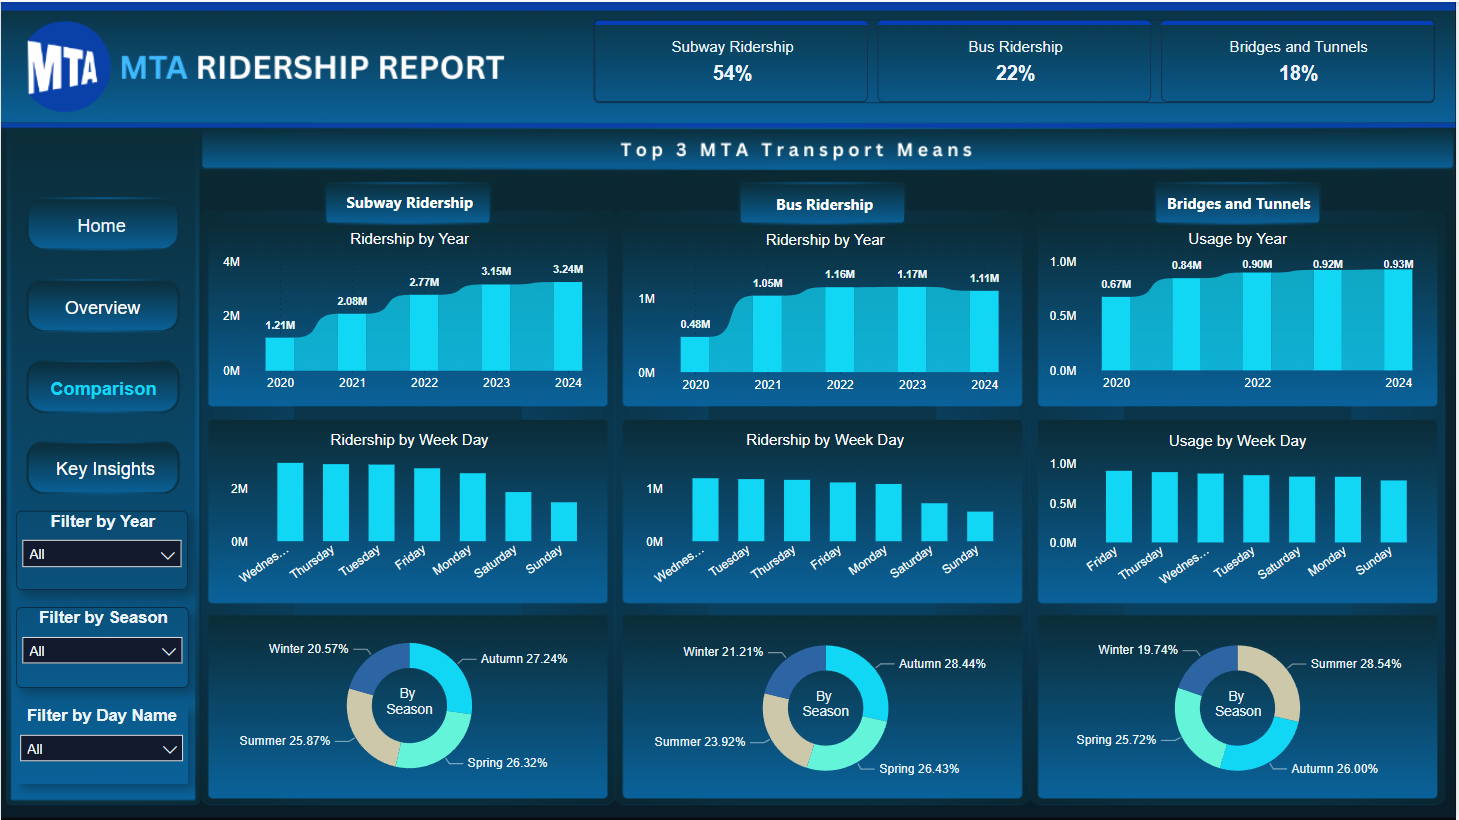

Layout of this report page (visuals, bound fields, positions):
{"tool":"powerbi","page":{"name":"Comparison","canvas":[1280,720],"ordinal":2},"visuals":[{"type":"clusteredColumnChart","title":"Ridership by Week Day","fields":{"Category":["Dates.Day Name"],"Y":["Avg(MTA_Daily_Ridership.Bus Ridership)"]},"box":[549.8,367.6,350.5,162.1],"z":0},{"type":"donutChart","title":"Ridership by Month","fields":{"Category":["Dates.Season"],"Y":["Avg(MTA_Daily_Ridership.Bus Ridership)"]},"box":[549.8,540.2,350.5,162.1],"z":1000},{"type":"ribbonChart","title":"Ridership by Year","fields":{"Category":["Dates.Year"],"Y":["Avg(MTA_Daily_Ridership.Bus Ridership)"]},"box":[549.8,191.8,350.5,165.3],"z":2000},{"type":"shape","box":[637.2,154.9,175.8,45.3],"z":3000},{"type":"ribbonChart","title":"Ridership by Year","fields":{"Category":["Dates.Year"],"Y":["Avg(MTA_Daily_Ridership.Subway Ridership)"]},"box":[184.5,190.1,349.5,165.3],"z":4000},{"type":"clusteredColumnChart","title":"Ridership by Week Day","fields":{"Category":["Dates.Day Name"],"Y":["Avg(MTA_Daily_Ridership.Subway Ridership)"]},"box":[184.5,366.9,349.5,162.1],"z":5000},{"type":"donutChart","title":"Ridership by Month","fields":{"Category":["Dates.Season"],"Y":["CountNonNull(MTA_Daily_Ridership.Subway Ridership)"]},"box":[184.5,537.5,349.5,162.1],"z":6000},{"type":"shape","box":[271.9,152.2,175.8,48.4],"z":7000},{"type":"cardVisual","fields":{"Data":["All Measures.Subway Ridership Percent","All Measures.Bus Ridership Percent","All Measures.Bridges and Tunnels %"]},"box":[521.1,15.8,740,73.7],"z":8000},{"type":"shape","box":[1002.1,152.6,174.2,48.5],"z":9000},{"type":"ribbonChart","title":"Usage by Year","fields":{"Category":["Dates.Year"],"Y":["Avg(MTA_Daily_Ridership.Bridges and Tunnels Traffic)"]},"box":[911.3,190.7,352.6,164.9],"z":10000},{"type":"clusteredColumnChart","title":"Usage by Week Day","fields":{"Category":["Dates.Day Name"],"Y":["Avg(MTA_Daily_Ridership.Bridges and Tunnels Traffic)"]},"box":[911.1,368.7,352.6,162.1],"z":11000},{"type":"donutChart","title":"Ridership by Month","fields":{"Category":["Dates.Season"],"Y":["Sum(Transport_type.Bridges and Tunnels Traffic)"]},"box":[911.1,540.2,352.6,162.1],"z":12000},{"type":"textbox","box":[692.9,603.3,65.3,33.7],"z":13000},{"type":"textbox","box":[326.6,601.7,65.3,33.7],"z":14000},{"type":"textbox","box":[1055.3,603.4,65.3,33.7],"z":15000},{"type":"actionButton","box":[38.9,176.8,100,40],"z":16000},{"type":"actionButton","box":[22.1,249.5,134.7,38.9],"z":17000},{"type":"actionButton","box":[15.8,320,149.5,40],"z":18000},{"type":"actionButton","box":[24,391.7,135.4,38.5],"z":19000},{"type":"slicer","title":"Filter by Year","fields":{"Values":["Dates.Year"]},"box":[13.5,447.9,151,69.8],"z":20000},{"type":"slicer","title":"Filter by Season","fields":{"Values":["Dates.Season"]},"box":[12.8,532.3,152.1,70.8],"z":21000},{"type":"slicer","title":"Filter by Day Name","fields":{"Values":["Dates.Day Name"]},"box":[12.3,618.8,153.1,68.8],"z":22000}]}

Visuals, with their boxes in screenshot pixels (x1, y1, x2, y2), scaled from the page's 1280x720 canvas onto the 1459x820 screenshot:
"Ridership by Week Day" clusteredColumnChart: 627:419:1026:603
"Ridership by Month" donutChart: 627:615:1026:800
"Ridership by Year" ribbonChart: 627:218:1026:407
shape: 726:176:927:228
"Ridership by Year" ribbonChart: 210:217:609:405
"Ridership by Week Day" clusteredColumnChart: 210:418:609:602
"Ridership by Month" donutChart: 210:612:609:797
shape: 310:173:510:228
cardVisual - All Measures.Subway Ridership Percent x All Measures.Bus Ridership Percent: 594:18:1437:102
shape: 1142:174:1341:229
"Usage by Year" ribbonChart: 1039:217:1441:405
"Usage by Week Day" clusteredColumnChart: 1039:420:1440:605
"Ridership by Month" donutChart: 1039:615:1440:800
textbox: 790:687:864:725
textbox: 372:685:447:724
textbox: 1203:687:1277:726
actionButton: 44:201:158:247
actionButton: 25:284:179:328
actionButton: 18:364:188:410
actionButton: 27:446:182:490
"Filter by Year" slicer: 15:510:188:590
"Filter by Season" slicer: 15:606:188:687
"Filter by Day Name" slicer: 14:705:189:783
